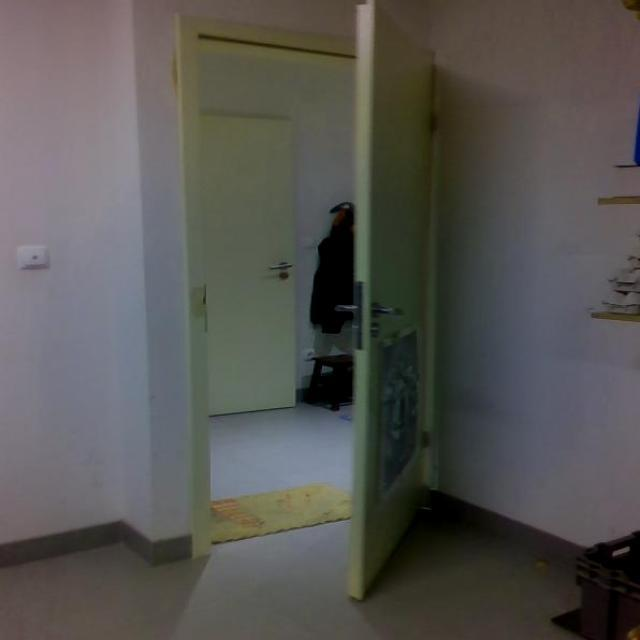door: (338, 4, 457, 600), (200, 112, 297, 416)
